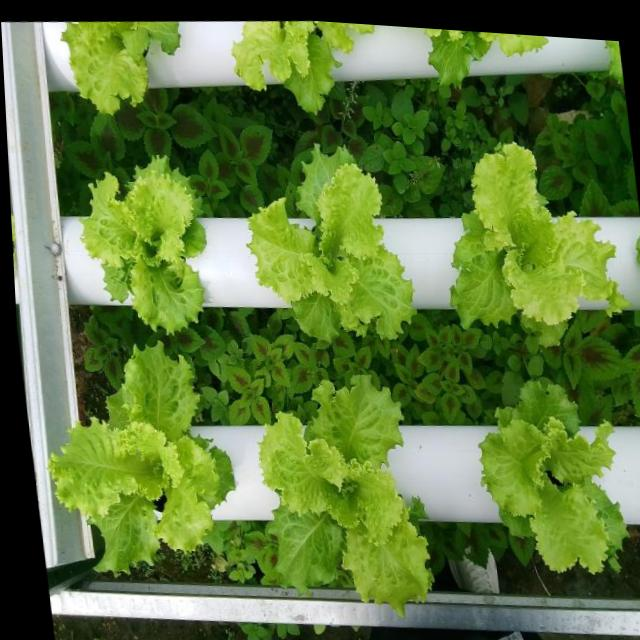Baby: (48, 344, 234, 573), (258, 376, 433, 613), (451, 142, 629, 347), (247, 144, 416, 341), (479, 381, 627, 572), (79, 155, 206, 335)
